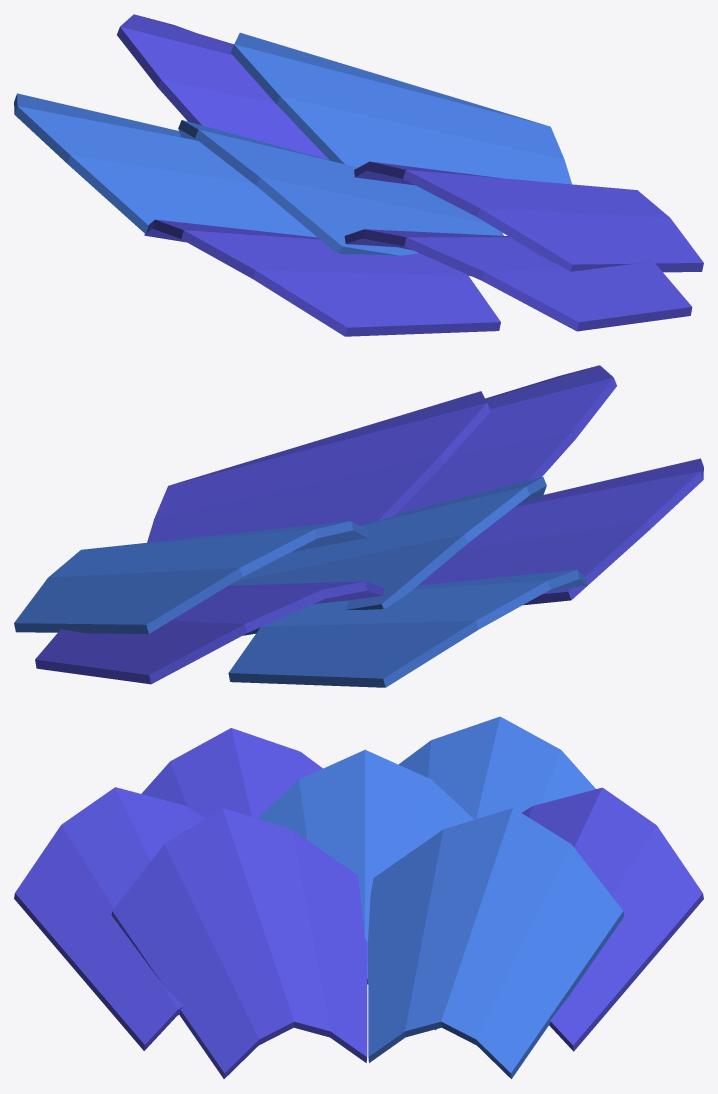
Rendered from Ingredient_Scales.fbx.
3 views of the same model, one above another, from view 1: azimuth 30°, elevation 25°; view 2: azimuth 150°, elevation 25°; view 3: azimuth 270°, elevation 25° (orthographic). The views are drawn at different scales.
Parts seen in each view (by area): view 1: Cube.004, Cube.007, Cube.006, Cube.003, Cube, Cube.002, Cube.001; view 2: Cube.003, Cube.006, Cube.004, Cube.007, Cube, Cube.001, Cube.002; view 3: Cube.004, Cube.003, Cube.002, Cube.001, Cube, Cube.006, Cube.007.
Part boxes in pixels (x1=…): Cube.004: x1=230, y1=32, x2=571, y2=184; Cube.007: x1=144, y1=219, x2=500, y2=336; Cube.006: x1=14, y1=93, x2=316, y2=237; Cube.003: x1=354, y1=161, x2=703, y2=272; Cube: x1=178, y1=120, x2=503, y2=276; Cube.002: x1=344, y1=229, x2=692, y2=331; Cube.001: x1=117, y1=14, x2=328, y2=159; Cube.003: x1=147, y1=391, x2=490, y2=542; Cube.006: x1=228, y1=569, x2=587, y2=687; Cube.004: x1=14, y1=521, x2=367, y2=633; Cube.007: x1=418, y1=458, x2=703, y2=605; Cube: x1=229, y1=477, x2=546, y2=635; Cube.001: x1=35, y1=581, x2=384, y2=684; Cube.002: x1=396, y1=365, x2=616, y2=514; Cube.004: x1=368, y1=808, x2=623, y2=1078; Cube.003: x1=111, y1=808, x2=367, y2=1078; Cube.002: x1=14, y1=787, x2=205, y2=1050; Cube.001: x1=435, y1=787, x2=703, y2=1051; Cube: x1=257, y1=749, x2=474, y2=984; Cube.006: x1=398, y1=716, x2=595, y2=819; Cube.007: x1=141, y1=728, x2=322, y2=818.
Bounding box in the file's own units: 53.78 × 18.62 × 71.99.
